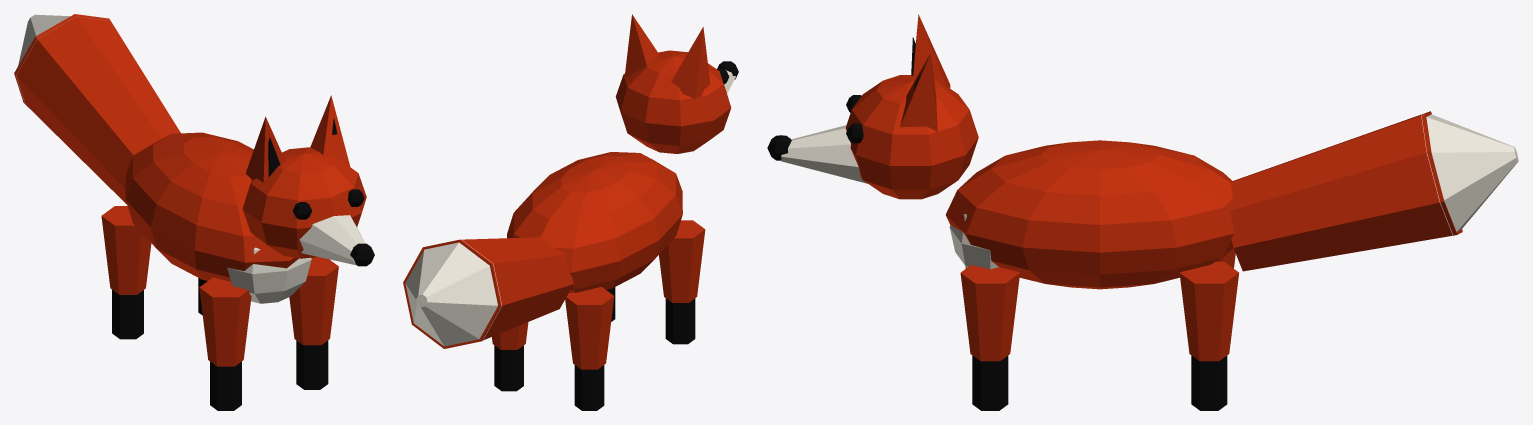
File: Fox.obj
3 renders of one model, left to right at view 1: azimuth 30°, elevation 25°; view 2: azimuth 150°, elevation 25°; view 3: azimuth 270°, elevation 25°, orthographic. The views are drawn at different scales.
Visible parts, largest first — view 1: Fox; view 2: Fox; view 3: Fox.
Boxes of the visible parts, x1=… form: Fox: x1=14, y1=14, x2=374, y2=410; Fox: x1=403, y1=14, x2=738, y2=410; Fox: x1=767, y1=14, x2=1518, y2=410.
Bounding box in the file's own units: 0.252 × 0.5391 × 1.06.
